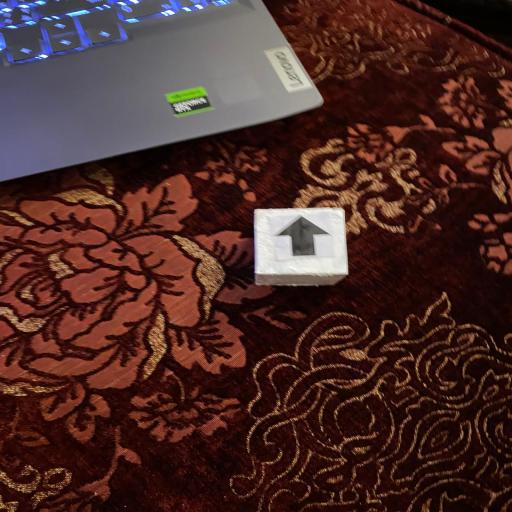Up: (247, 204, 351, 287)
